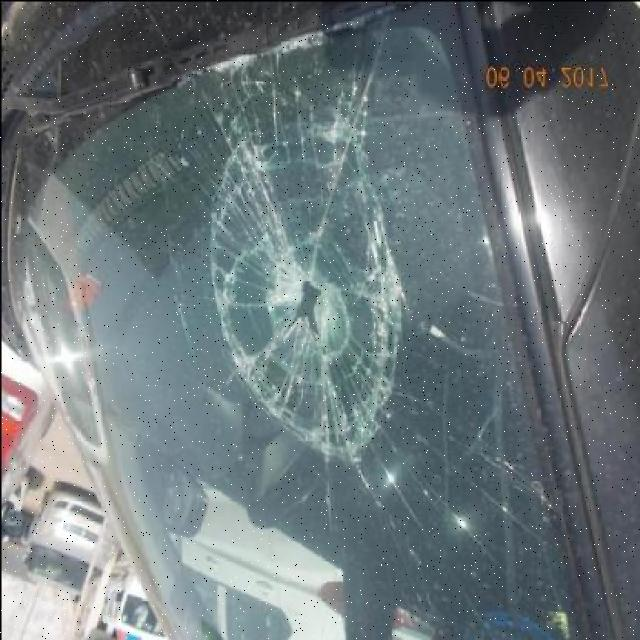damage: (171, 93, 451, 483)
